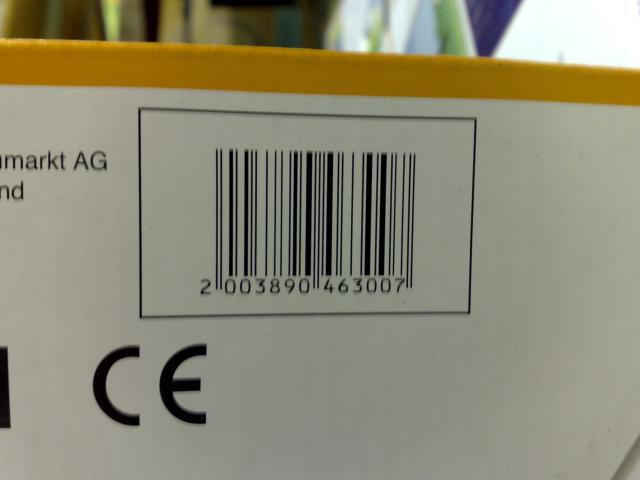Barkod: (208, 146, 418, 278)
